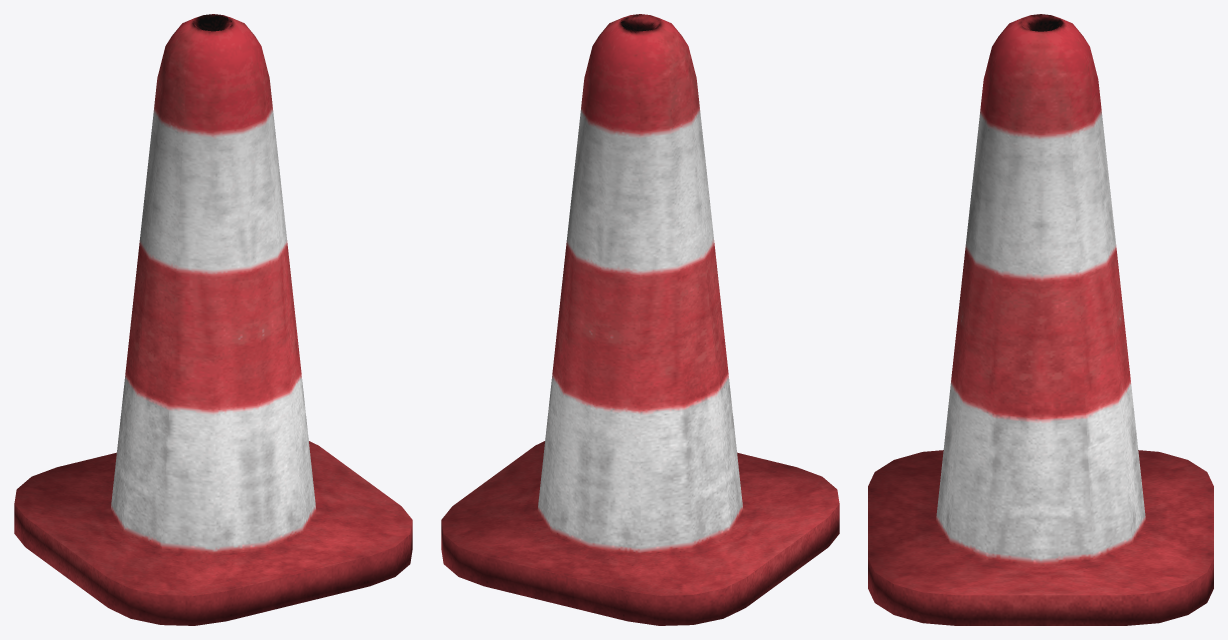
The model's file is traffic_cone.glb.
The picture shows the model from 3 angles, left to right: view 1: azimuth 30°, elevation 25°; view 2: azimuth 150°, elevation 25°; view 3: azimuth 270°, elevation 25°; orthographic projection. The views are drawn at different scales.
Parts seen in each view (by area): view 1: Pacholek_Drogowy_PRL_0; view 2: Pacholek_Drogowy_PRL_0; view 3: Pacholek_Drogowy_PRL_0.
Boxes of the visible parts, x1,y1,x2,y2 form: Pacholek_Drogowy_PRL_0: (14, 14, 412, 625); Pacholek_Drogowy_PRL_0: (441, 14, 839, 625); Pacholek_Drogowy_PRL_0: (868, 14, 1213, 625).
Bounding box in the file's own units: 0.4081 × 0.6898 × 0.4081.
Materials: 1 (1 with a texture image).
